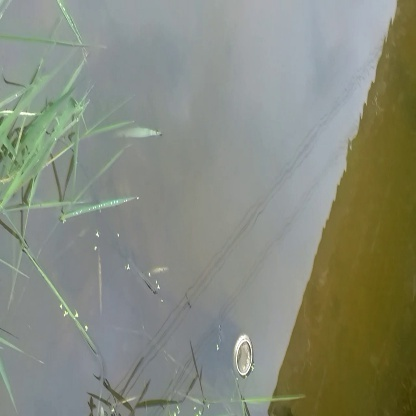bottle: (231, 333, 258, 377)
